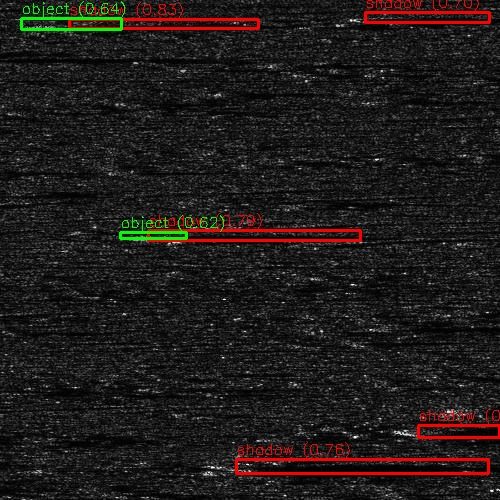rock: (314, 322, 439, 331), (112, 229, 165, 240), (362, 427, 435, 434), (248, 60, 311, 67), (226, 459, 257, 470), (220, 465, 251, 476), (215, 90, 256, 97)
shadow: (139, 229, 388, 240), (242, 459, 487, 470), (236, 465, 481, 476), (280, 60, 474, 67), (377, 322, 500, 331), (399, 427, 500, 434), (236, 90, 334, 97), (0, 54, 222, 57), (0, 135, 18, 168)
